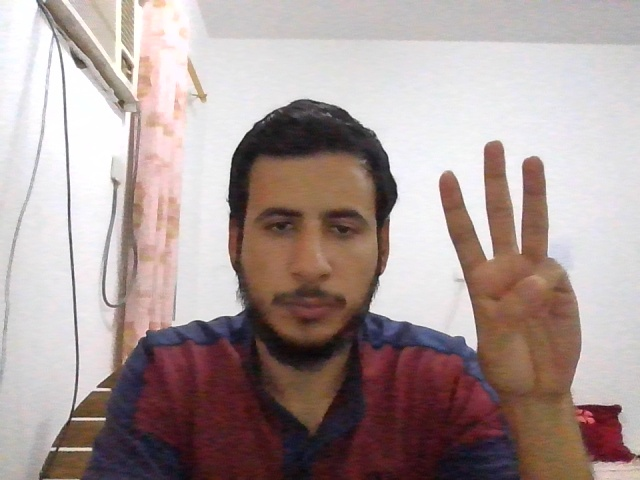Three: (439, 139, 584, 396)
